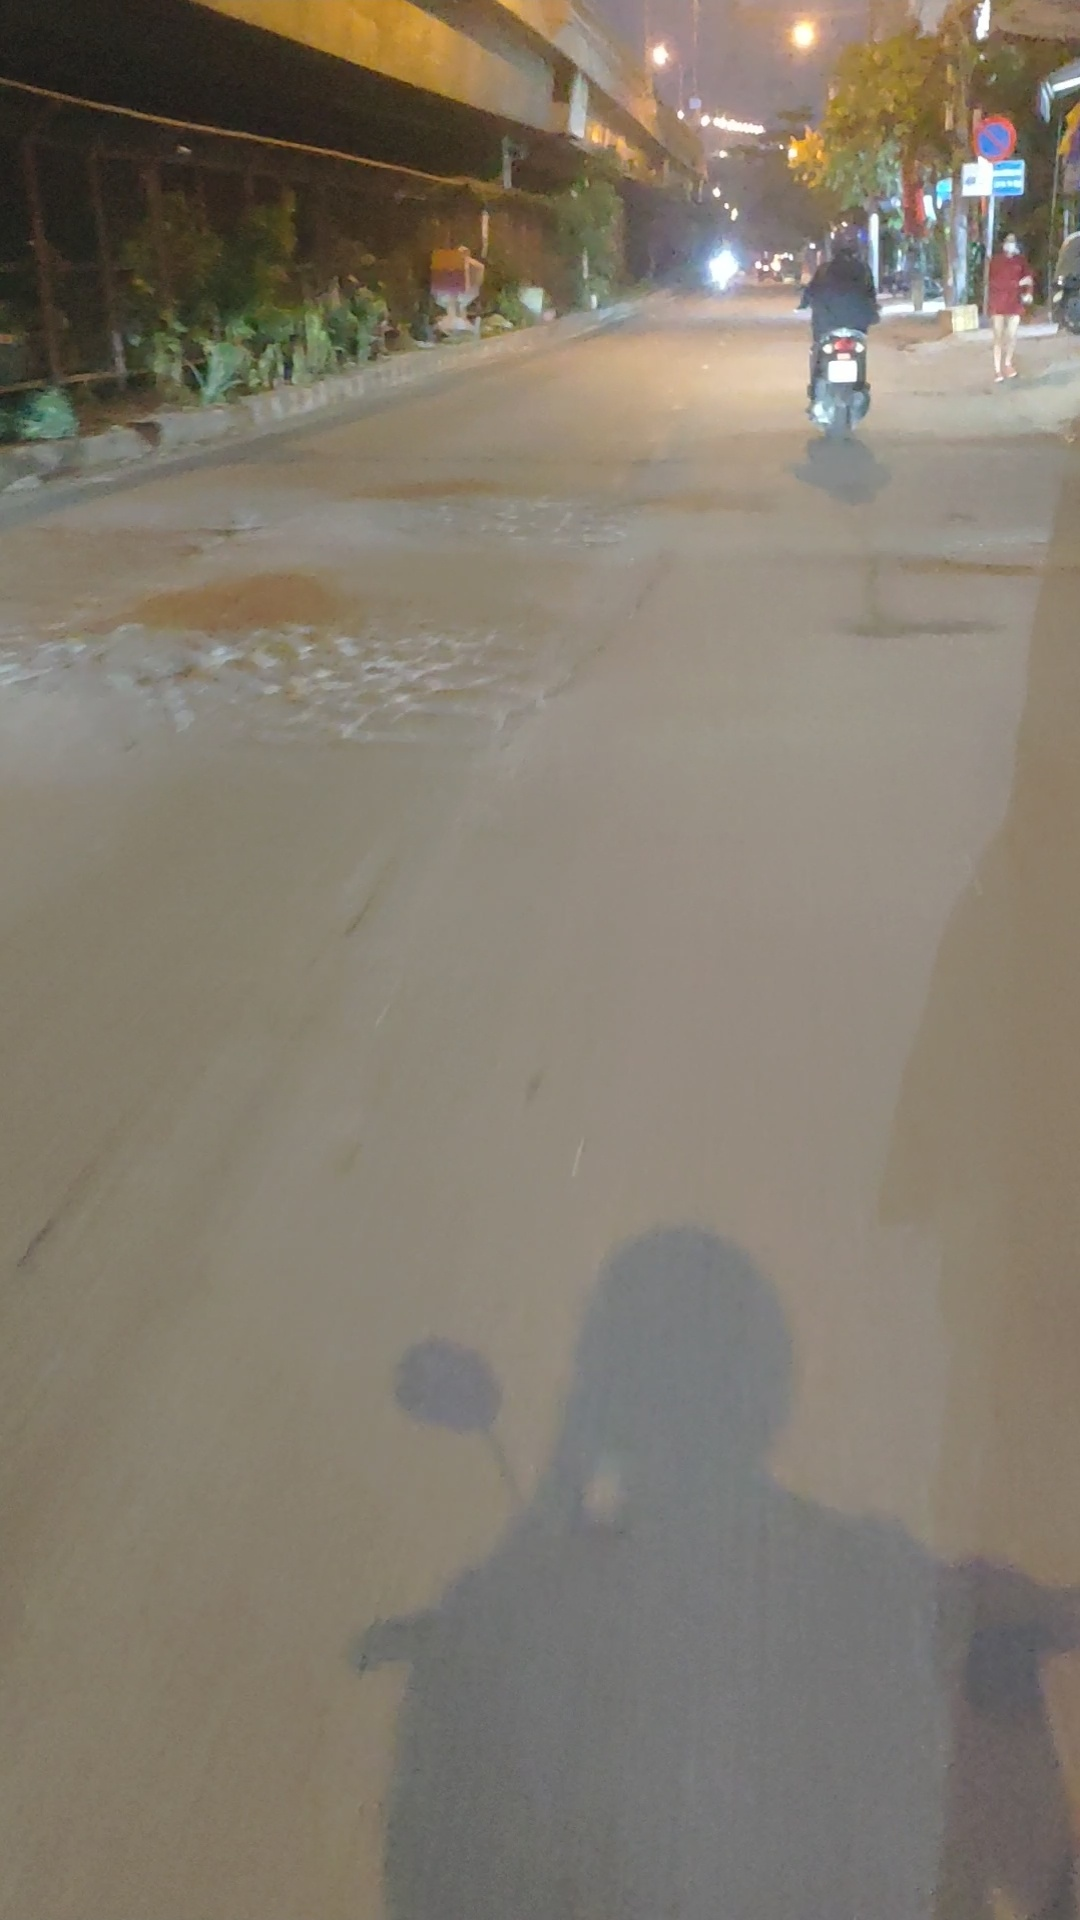hole: (1, 588, 583, 746), (328, 475, 670, 553), (161, 516, 273, 564)
